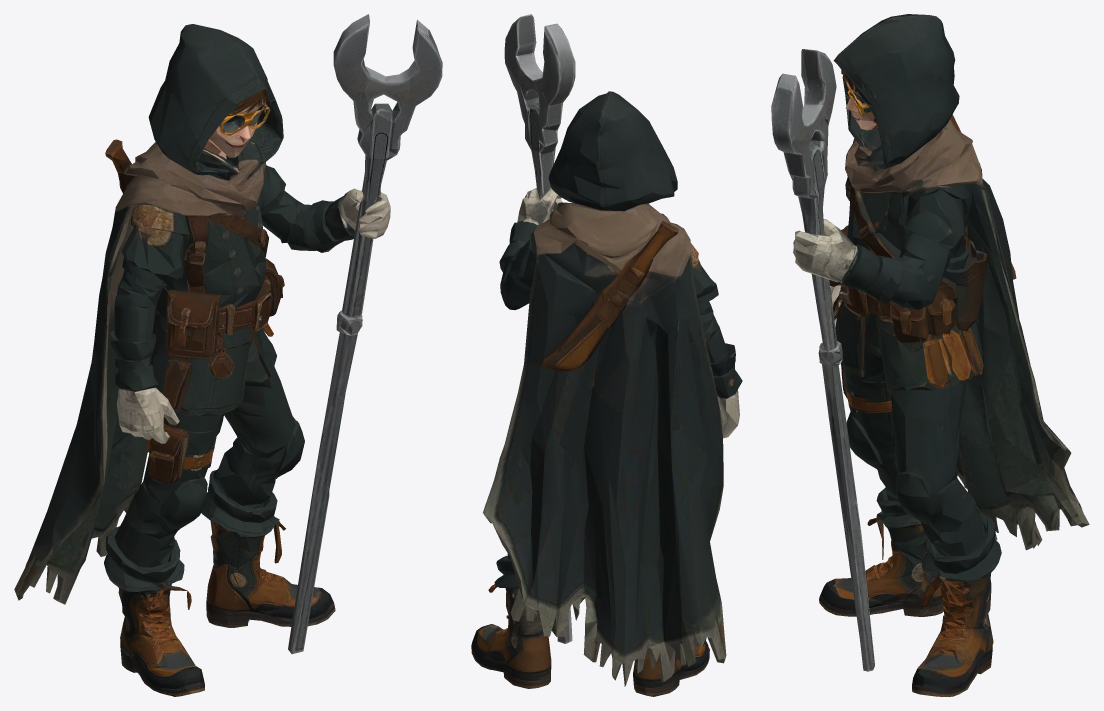
File: hero.glb
The picture shows the model from 3 angles, left to right: view 1: azimuth 30°, elevation 25°; view 2: azimuth 150°, elevation 25°; view 3: azimuth 270°, elevation 25°; orthographic projection. The views are drawn at different scales.
Size of the model in its own units: 1.03 by 1.9 by 0.8536.
Materials: 1 (1 with a texture image).
